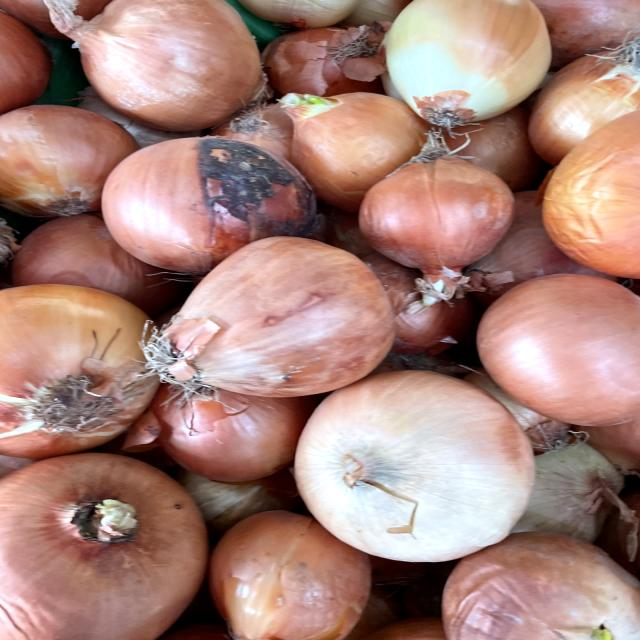onion: (287, 353, 544, 568), (135, 225, 408, 405), (63, 3, 285, 133), (366, 0, 574, 131), (348, 146, 525, 287)
